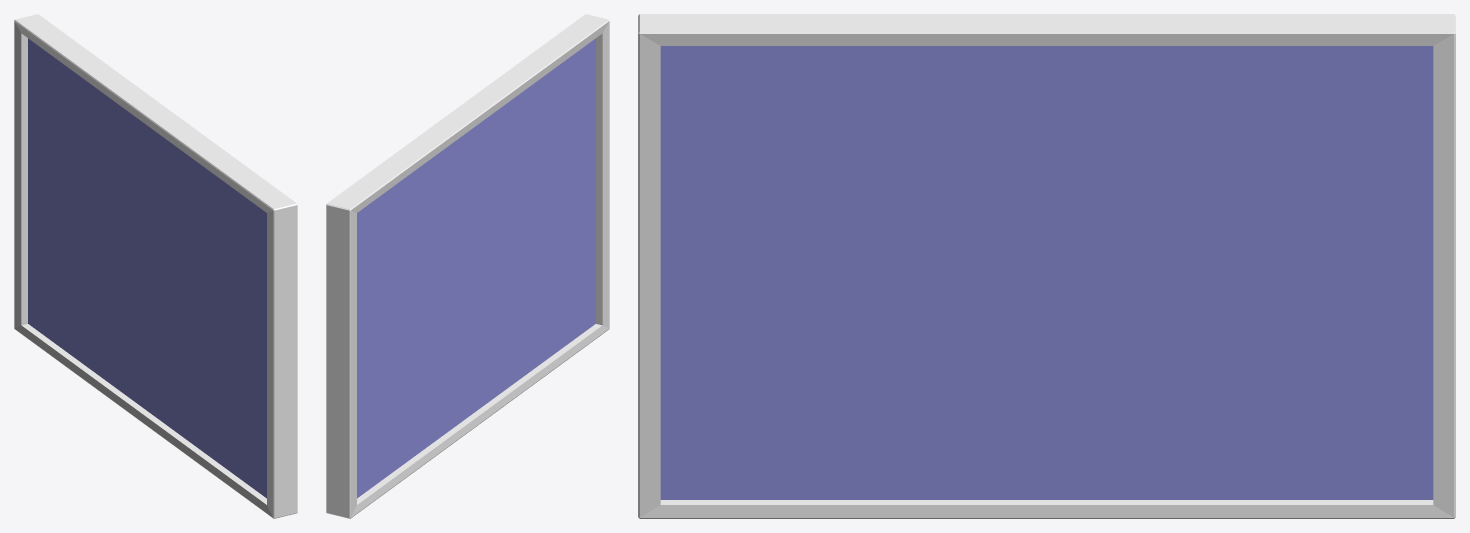
Rendered from IndoorWindow.fbx.
3 views of the same model, side by side, from view 1: azimuth 30°, elevation 25°; view 2: azimuth 150°, elevation 25°; view 3: azimuth 270°, elevation 25° (orthographic). The views are drawn at different scales.
Visible parts, largest first — view 1: IndoorWindow; view 2: IndoorWindow; view 3: IndoorWindow.
Boxes of the visible parts, x1,y1,x2,y2 form: IndoorWindow: [14, 14, 297, 518]; IndoorWindow: [326, 14, 609, 518]; IndoorWindow: [638, 14, 1455, 518].
Size of the model in its own units: 16.36 by 197 by 300.
